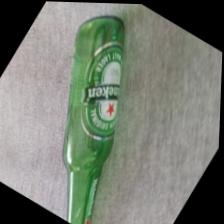glass: (0, 2, 125, 223)
